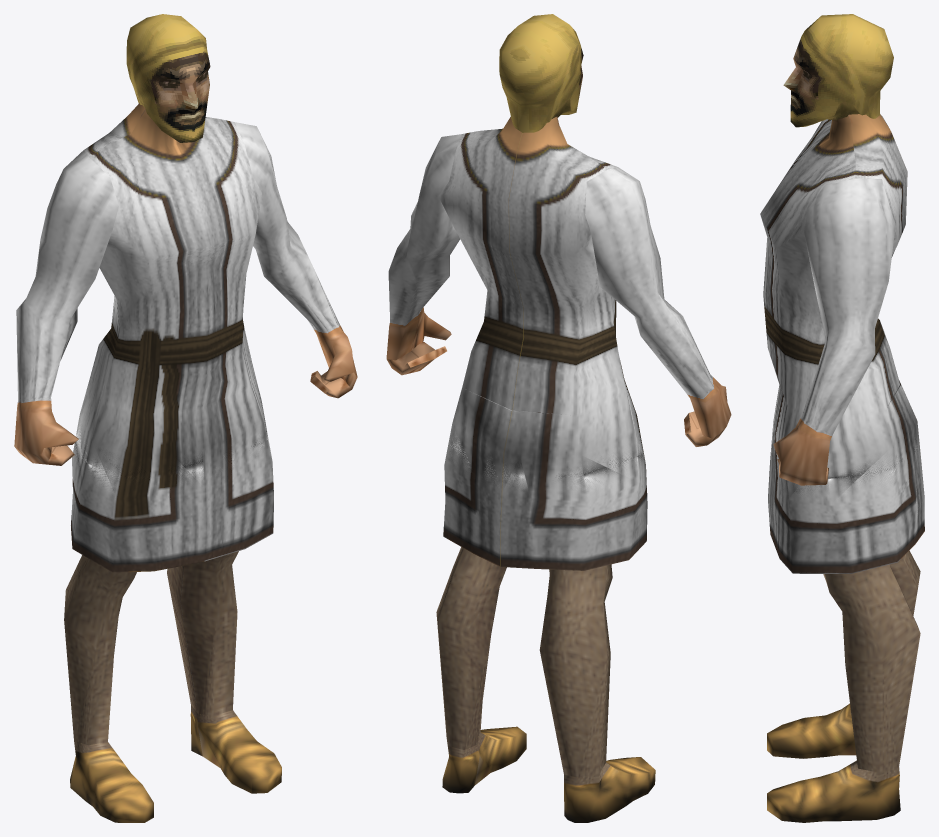
The model's file is token-spearman.glb.
3 views of the same model, side by side, from view 1: azimuth 30°, elevation 25°; view 2: azimuth 150°, elevation 25°; view 3: azimuth 270°, elevation 25° (orthographic).
Bounding box in the file's own units: 0.1897 × 0.42 × 0.0821.
Materials: 1 (1 with a texture image).
